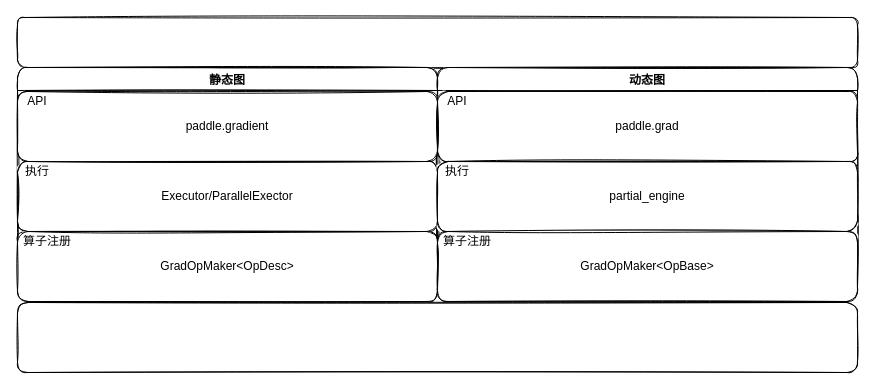
The diagram is 875 pixels wide and 390 high, and some of its shapes have lost their labels. Here are the shapes that lost their labels. From the top down, the centre of each, then its label:
the point at 437,42: AutoDiffUser
the point at 437,337: OpInfo
